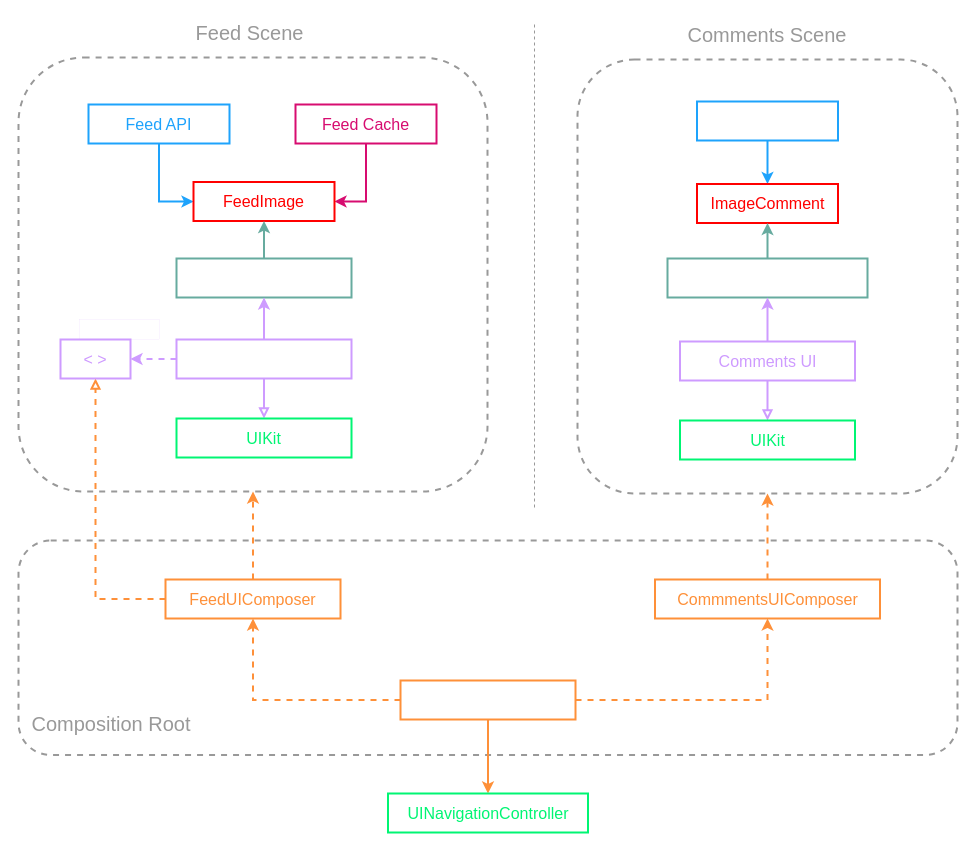
This 975x850 diagram has some shape labels left out. Each missing label, with the box of its shape:
Comments API: (696, 100, 838, 141)
Comments Presentation: (666, 257, 868, 298)
Feed Presentation: (175, 257, 352, 298)
Feed UI: (175, 338, 352, 379)
SceneDelegate: (399, 679, 576, 720)
selection: (79, 319, 159, 339)
